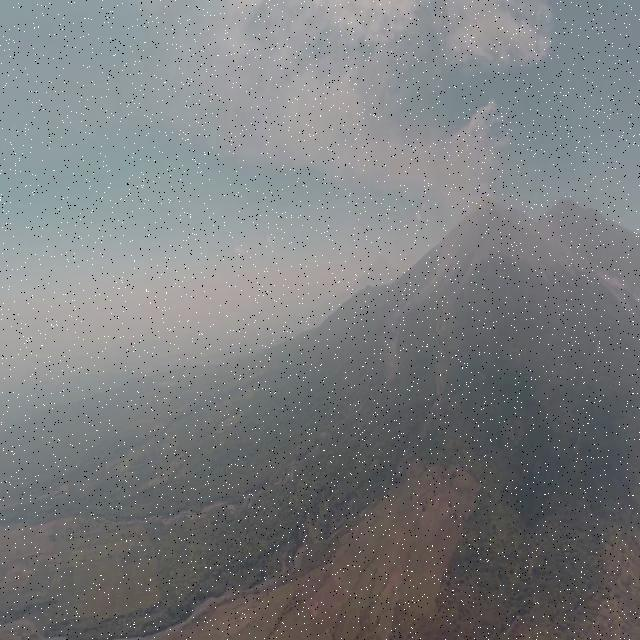Plume: (180, 6, 522, 220)
